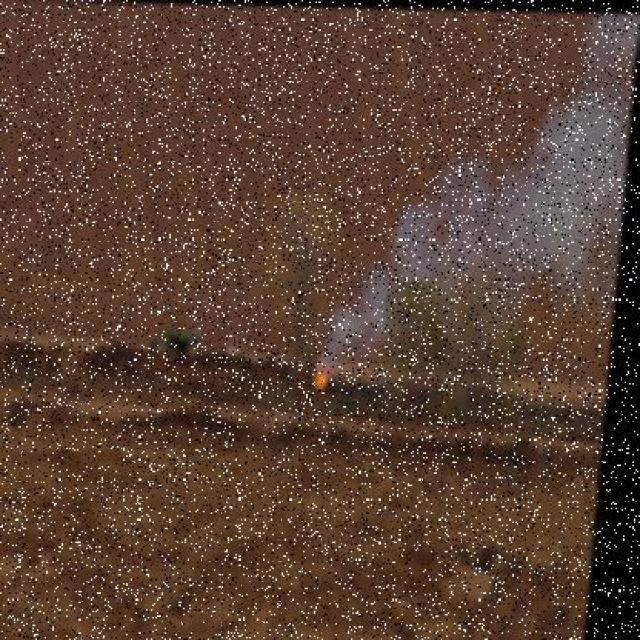fire: (310, 369, 330, 393)
